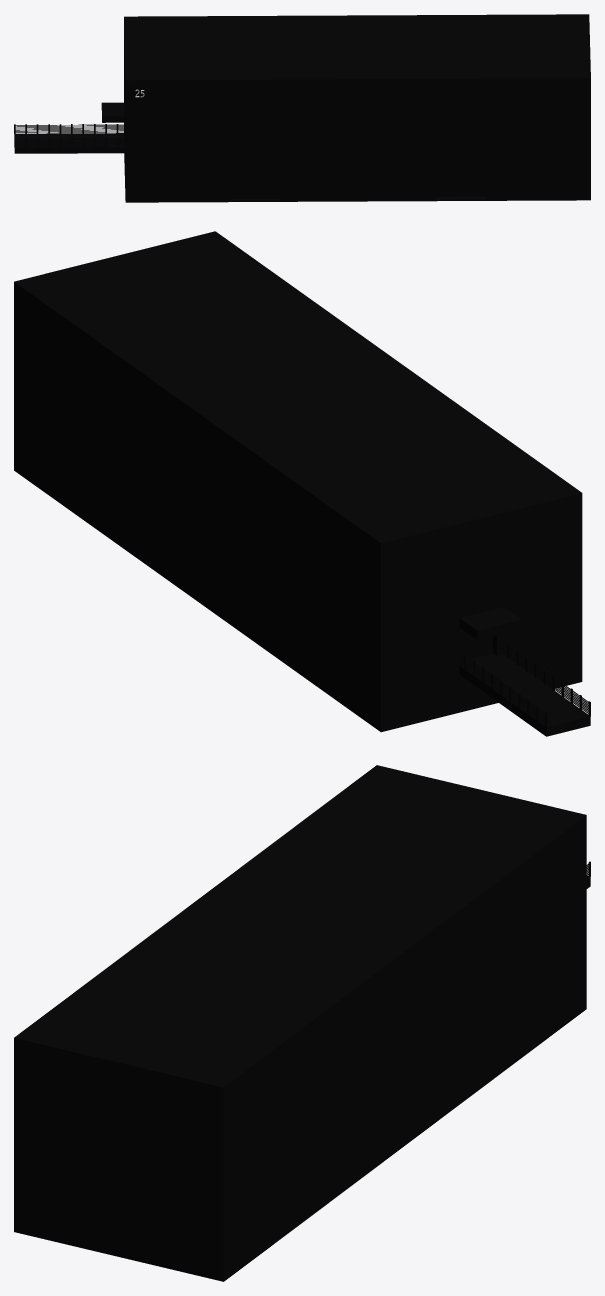
Rendered from building_seongho.gltf.
3 views of the same model, one above another, from view 1: azimuth 30°, elevation 25°; view 2: azimuth 150°, elevation 25°; view 3: azimuth 270°, elevation 25° (orthographic). The views are drawn at different scales.
Parts seen in each view (by area): view 1: building_seongho; view 2: building_seongho; view 3: building_seongho.
Part boxes in pixels (x1,y1,x2,y2): building_seongho: (14,14,590,202); building_seongho: (14,231,590,736); building_seongho: (14,765,590,1281).
Size of the model in its own units: 4.99 by 1.23 by 3.31.
Materials: 1 (1 with a texture image).
